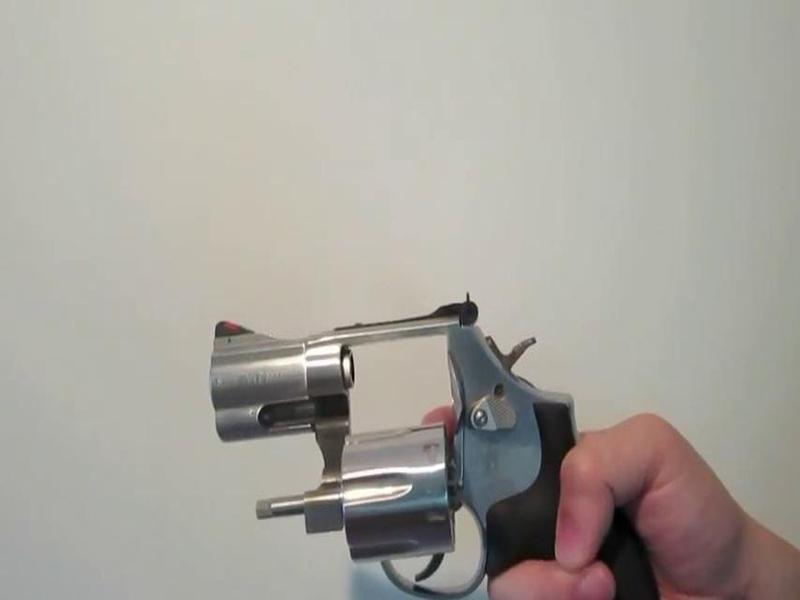Revolver: (177, 271, 713, 597)
